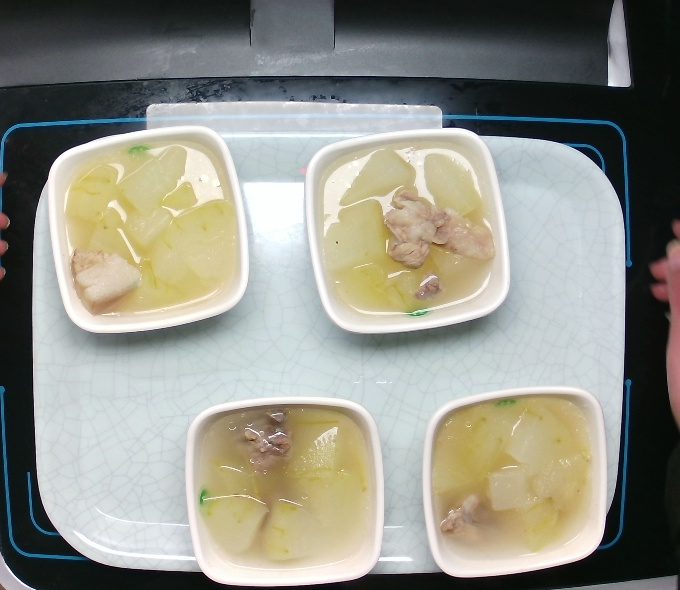wcq-DongGuaZhuRouTang: (308, 145, 505, 321), (55, 141, 252, 317), (196, 404, 375, 574), (431, 396, 596, 559)
